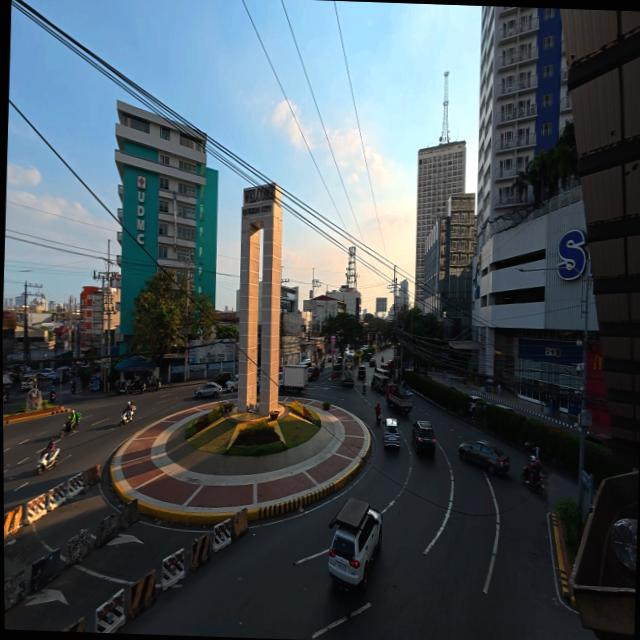Jeepneys: (371, 369, 390, 393)
car: (329, 498, 383, 592), (459, 440, 509, 475), (412, 421, 435, 456), (383, 419, 400, 448), (195, 382, 222, 398), (586, 433, 612, 448), (470, 395, 486, 414), (215, 372, 233, 386), (226, 374, 239, 392), (496, 404, 516, 413), (308, 366, 320, 381), (358, 365, 366, 381), (299, 359, 312, 367), (278, 371, 284, 388), (369, 357, 376, 367), (257, 375, 261, 391), (328, 355, 333, 362)
motorcycle: (521, 466, 544, 494), (36, 448, 59, 474), (59, 414, 80, 437), (120, 405, 135, 426), (131, 378, 146, 392), (117, 381, 129, 395), (148, 378, 161, 390), (50, 391, 56, 403), (71, 382, 76, 395), (376, 414, 381, 426), (362, 381, 366, 394)
trucks: (386, 384, 413, 414), (282, 365, 308, 393), (342, 355, 354, 387)
